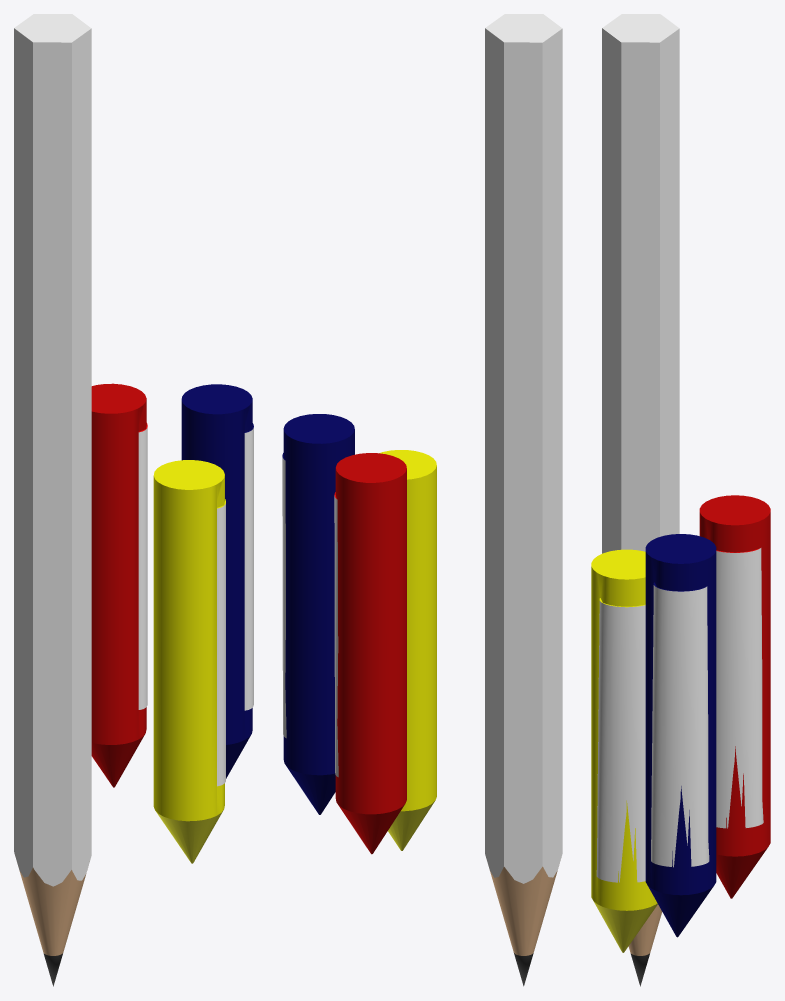
The model's file is ibangsagot1.fbx.
3 views of the same model, side by side, from view 1: azimuth 30°, elevation 25°; view 2: azimuth 150°, elevation 25°; view 3: azimuth 270°, elevation 25° (orthographic).
Visible parts, largest first — view 1: Model; view 2: Model; view 3: Model.
Boxes of the visible parts, x1=… form: Model: x1=14, y1=14, x2=253, y2=986; Model: x1=282, y1=14, x2=562, y2=986; Model: x1=591, y1=14, x2=770, y2=986.
Bounding box in the file's own units: 8.31 × 31.03 × 5.25.
